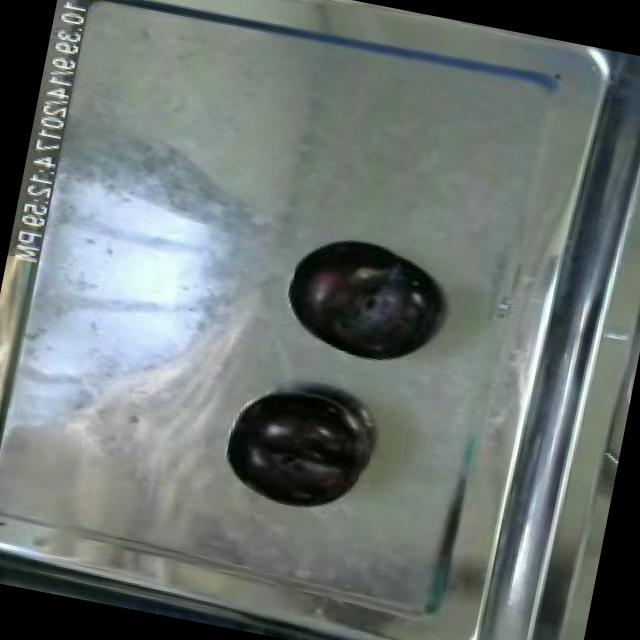Fruit: (273, 224, 449, 374), (213, 377, 372, 521)
